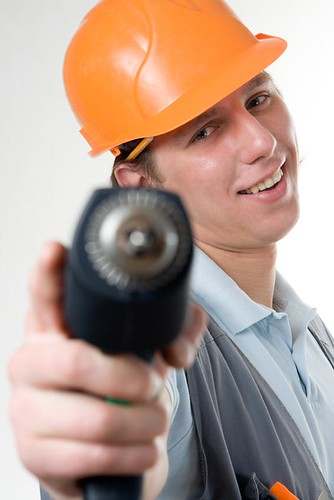person hardhat: (15, 1, 333, 500)
